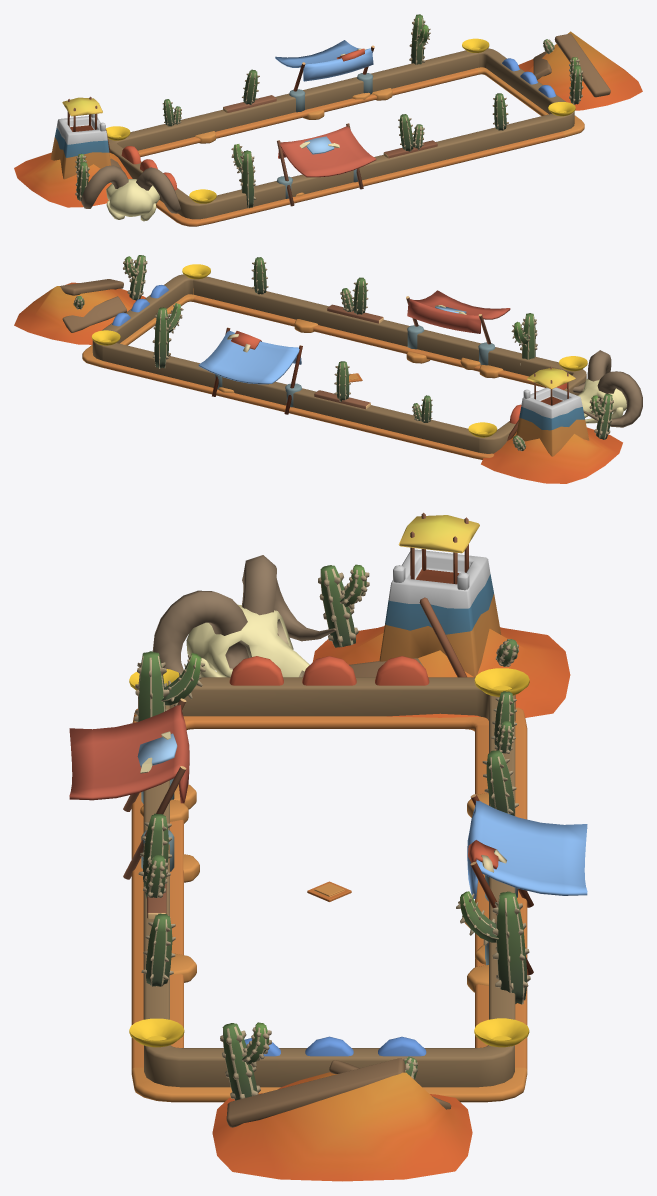
File: Arena6.fbx
3 views of the same model, one above another, from view 1: azimuth 30°, elevation 25°; view 2: azimuth 150°, elevation 25°; view 3: azimuth 270°, elevation 25° (orthographic). The views are drawn at different scales.
Parts seen in each view (by area): view 1: Circle.082, Circle.080, Cube.153, Plane.070, Plane.002, Circle.083, Cube.028, Plane.069, Circle.084, Plane.003, Circle.081, Cube.036 (+18 smaller); view 2: Circle.082, Circle.080, Plane.069, Plane.070, Plane.003, Cube.028, Circle.084, Cube.153, Circle.083, Plane.002, Circle.081, Cylinder.075 (+18 smaller); view 3: Plane.070, Cube.153, Circle.008, Cube.028, Circle.081, Plane.002, Plane.003, Plane.069, Circle.084, Circle.083, Cylinder.075, Circle.009 (+18 smaller).
Part boxes in pixels (box(x1,y1,x2,y2)): Circle.082: box(119, 50, 478, 150); Circle.080: box(206, 113, 565, 218); Cube.153: box(81, 165, 180, 221); Plane.070: box(518, 31, 642, 110); Plane.002: box(278, 126, 376, 177); Circle.083: box(138, 68, 478, 157); Cube.028: box(50, 114, 111, 179); Plane.069: box(14, 152, 132, 207); Circle.084: box(211, 131, 564, 222); Plane.003: box(275, 40, 373, 81); Circle.081: box(478, 48, 574, 130); Cube.036: box(554, 33, 610, 97); Circle.082: box(102, 343, 479, 452); Circle.080: box(193, 276, 570, 376); Plane.069: box(481, 427, 622, 483); Plane.070: box(14, 282, 145, 344); Plane.003: box(198, 330, 301, 384); Cube.028: box(516, 387, 589, 456); Circle.084: box(193, 295, 546, 387); Cube.153: box(572, 350, 642, 427); Circle.083: box(103, 362, 474, 457); Plane.002: box(407, 290, 510, 333); Circle.081: box(92, 274, 193, 360); Cylinder.075: box(152, 303, 183, 368); Plane.070: box(212, 1072, 472, 1181); Cube.153: box(152, 555, 336, 677); Circle.008: box(170, 677, 515, 720); Cube.028: box(379, 549, 501, 677); Circle.081: box(144, 1045, 514, 1087); Plane.002: box(69, 705, 189, 803); Plane.003: box(467, 800, 587, 898); Plane.069: box(313, 626, 570, 717); Circle.084: box(131, 784, 199, 1069); Circle.083: box(464, 725, 527, 1069); Cylinder.075: box(456, 891, 530, 1004); Circle.009: box(132, 707, 526, 731).
Size of the model in its own units: 52.67 by 7.72 by 20.77.
